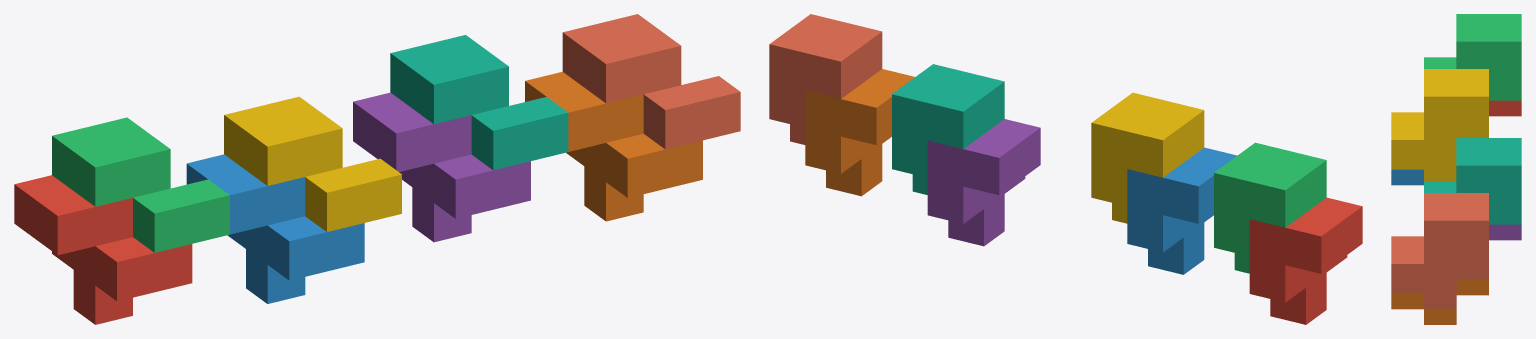
File: tiling.obj
3 renders of one model, left to right at view 1: azimuth 30°, elevation 25°; view 2: azimuth 150°, elevation 25°; view 3: azimuth 270°, elevation 25°, orthographic. The views are drawn at different scales.
Visible parts, largest first — view 1: copy_1_domain_1, copy_1_domain_5, copy_1_domain_8, copy_1_domain_7, copy_1_domain_3, copy_1_domain_4, copy_1_domain_2, copy_1_domain_6; view 2: copy_1_domain_1, copy_1_domain_5, copy_1_domain_4, copy_1_domain_8, copy_1_domain_3, copy_1_domain_7, copy_1_domain_2, copy_1_domain_6; view 3: copy_1_domain_8, copy_1_domain_4, copy_1_domain_3, copy_1_domain_7, copy_1_domain_6, copy_1_domain_1, copy_1_domain_2, copy_1_domain_5.
Boxes of the visible parts, x1,y1,x2,y2 form: copy_1_domain_1: [14, 175, 192, 324]; copy_1_domain_5: [353, 92, 530, 242]; copy_1_domain_8: [562, 14, 740, 149]; copy_1_domain_7: [390, 35, 568, 170]; copy_1_domain_3: [52, 117, 229, 252]; copy_1_domain_4: [224, 96, 401, 231]; copy_1_domain_2: [186, 154, 364, 303]; copy_1_domain_6: [525, 72, 702, 221]; copy_1_domain_1: [1249, 197, 1362, 324]; copy_1_domain_5: [927, 119, 1040, 246]; copy_1_domain_4: [1091, 92, 1204, 223]; copy_1_domain_8: [769, 14, 882, 144]; copy_1_domain_3: [1214, 142, 1326, 273]; copy_1_domain_7: [892, 64, 1004, 194]; copy_1_domain_2: [1127, 147, 1237, 274]; copy_1_domain_6: [805, 69, 914, 196]; copy_1_domain_8: [1391, 193, 1488, 309]; copy_1_domain_4: [1391, 69, 1488, 181]; copy_1_domain_3: [1424, 14, 1521, 100]; copy_1_domain_7: [1424, 138, 1521, 224]; copy_1_domain_6: [1391, 279, 1488, 324]; copy_1_domain_1: [1489, 100, 1521, 116]; copy_1_domain_2: [1391, 169, 1423, 185]; copy_1_domain_5: [1489, 224, 1521, 240].
Size of the model in its own units: 17 by 4 by 4.
